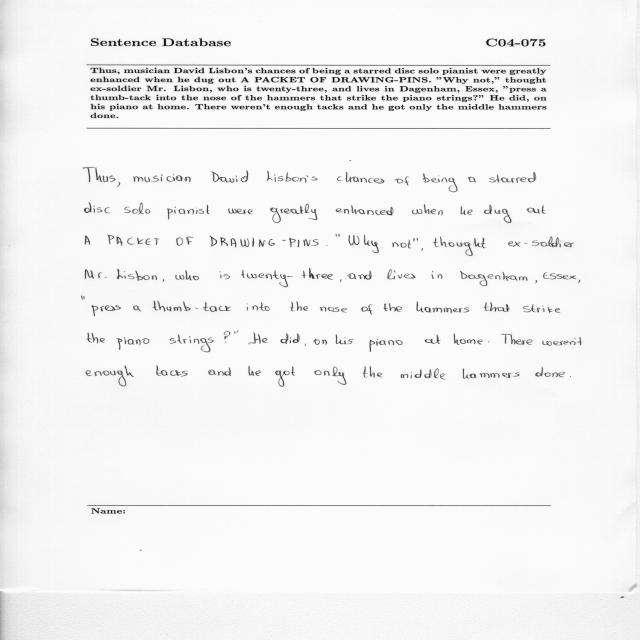word: (241, 269, 333, 288), (210, 236, 319, 248), (433, 236, 486, 256), (86, 366, 134, 387), (460, 271, 527, 286), (270, 204, 317, 223), (152, 301, 231, 312), (170, 335, 214, 353), (83, 168, 120, 188), (508, 237, 574, 248), (423, 174, 458, 193), (336, 205, 394, 216), (108, 234, 160, 246), (417, 302, 469, 314), (463, 368, 519, 379), (167, 205, 210, 219), (267, 171, 317, 183), (315, 367, 347, 385), (337, 172, 384, 184), (349, 235, 379, 253), (401, 368, 445, 380), (489, 172, 536, 183), (484, 205, 511, 223), (212, 170, 249, 183), (117, 269, 157, 281), (116, 337, 150, 350), (369, 339, 403, 352), (275, 367, 295, 387), (144, 174, 191, 182), (542, 337, 582, 346), (501, 334, 533, 345), (156, 366, 188, 377), (454, 333, 483, 345), (412, 205, 443, 216), (523, 304, 560, 313), (91, 305, 121, 316), (535, 367, 565, 377), (124, 203, 151, 214), (387, 269, 416, 279), (85, 203, 111, 213), (484, 302, 510, 312), (175, 270, 199, 280), (363, 366, 383, 378), (543, 273, 576, 280), (392, 238, 415, 248), (249, 333, 268, 345), (347, 271, 372, 280), (85, 269, 107, 279), (281, 333, 300, 344), (247, 302, 270, 311), (208, 367, 231, 376), (87, 333, 105, 344), (290, 302, 308, 312), (336, 335, 353, 345), (176, 237, 194, 246), (320, 307, 347, 313), (384, 303, 402, 312), (527, 206, 546, 214), (228, 209, 253, 215), (425, 335, 440, 344), (248, 366, 261, 376), (395, 177, 409, 186), (361, 305, 373, 315), (461, 206, 473, 215), (432, 271, 443, 279), (313, 339, 327, 345), (220, 272, 230, 280), (224, 332, 230, 343), (133, 176, 143, 182), (133, 305, 141, 312), (85, 235, 90, 245), (468, 177, 476, 182), (336, 234, 340, 237), (82, 296, 85, 300), (234, 331, 238, 334), (421, 248, 423, 251), (163, 279, 165, 282), (340, 279, 342, 282), (535, 280, 537, 283), (578, 280, 580, 283), (304, 344, 306, 346), (417, 238, 418, 241), (326, 245, 328, 246), (488, 342, 489, 343), (570, 376, 571, 377)
